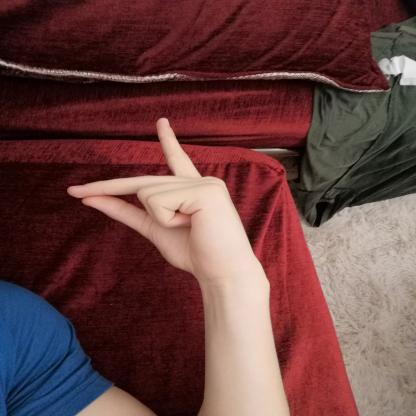TAA: (57, 109, 264, 285)
